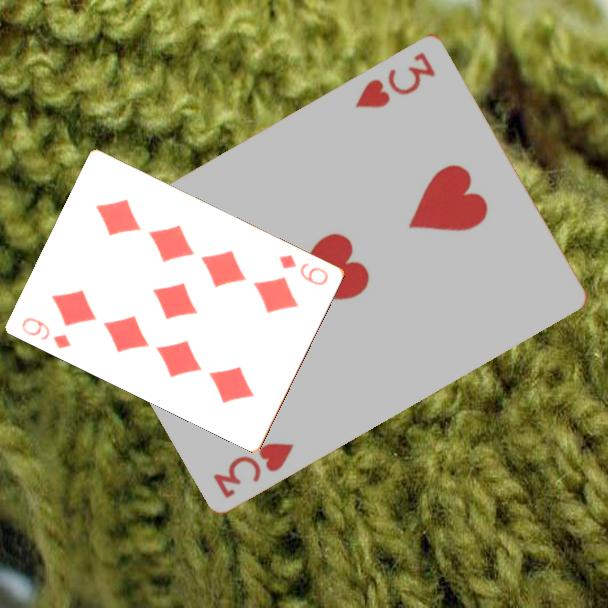d09: (18, 313, 74, 352), (276, 251, 332, 288)
h03: (209, 438, 298, 501), (352, 48, 439, 111)
